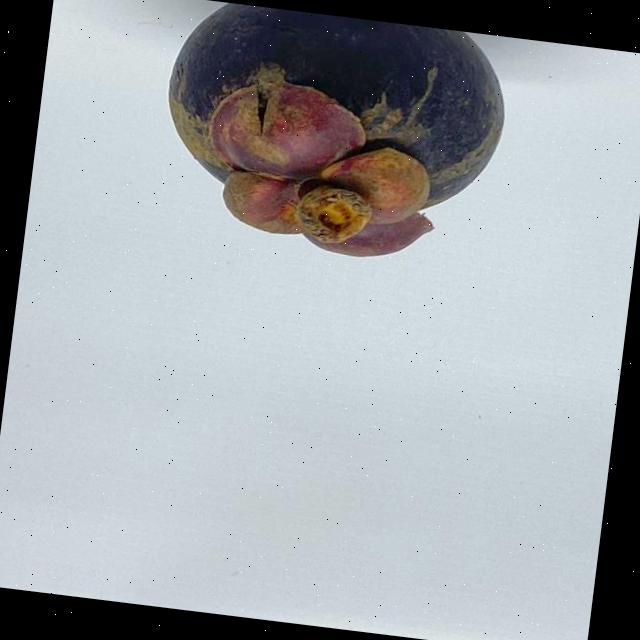mangosteen: (137, 0, 515, 274)
